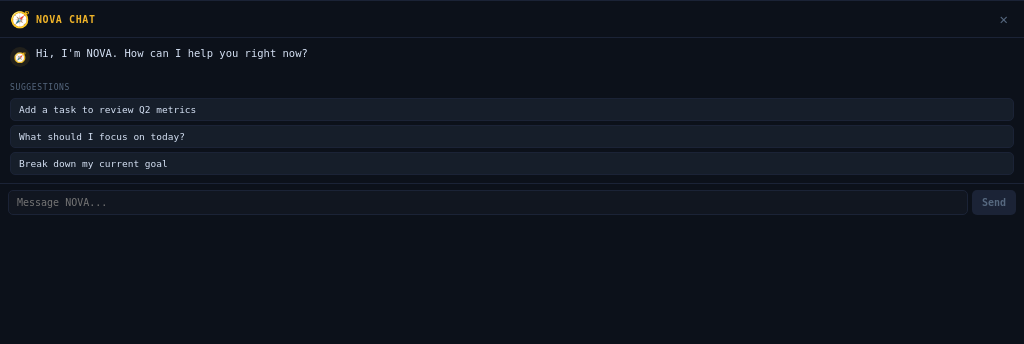
it: NovaCompassChat › handleUndo › shows error when undo fails
The width and height of the screenshot is (1024, 344).
In the field with placeholder "Message NOVA...": (488, 202) x1=8 y1=190 x2=968 y2=215, type "add a task"
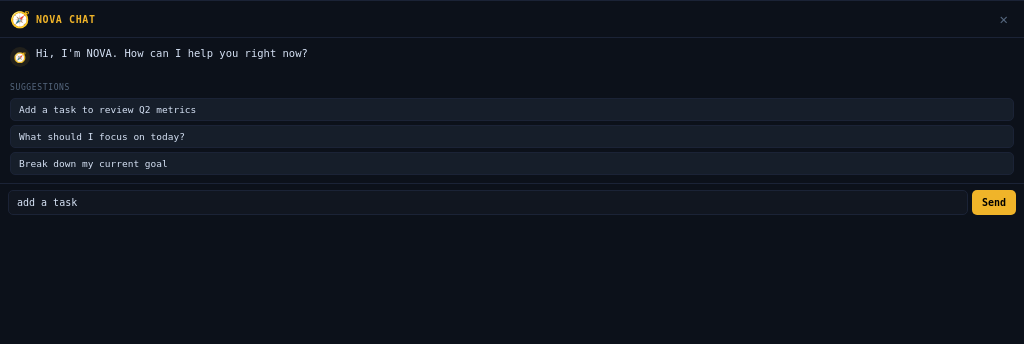
Click the button "Send": (994, 202) x1=972 y1=190 x2=1016 y2=215
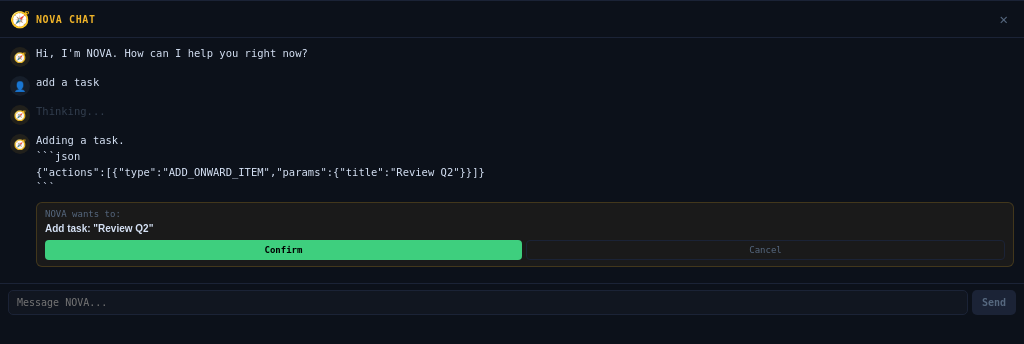
Check: the button "Confirm" is shown
Click the button "Confirm": (284, 250) x1=45 y1=240 x2=522 y2=260
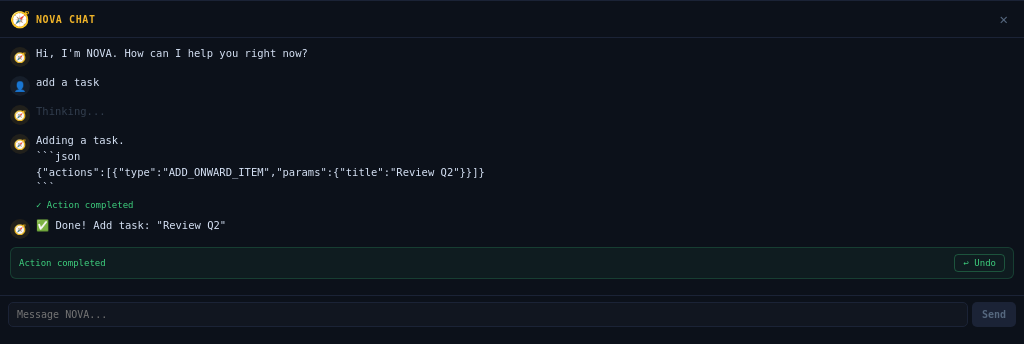
Check: the button "↩ Undo" is shown
Click the button "↩ Undo": (980, 263) x1=954 y1=254 x2=1005 y2=272
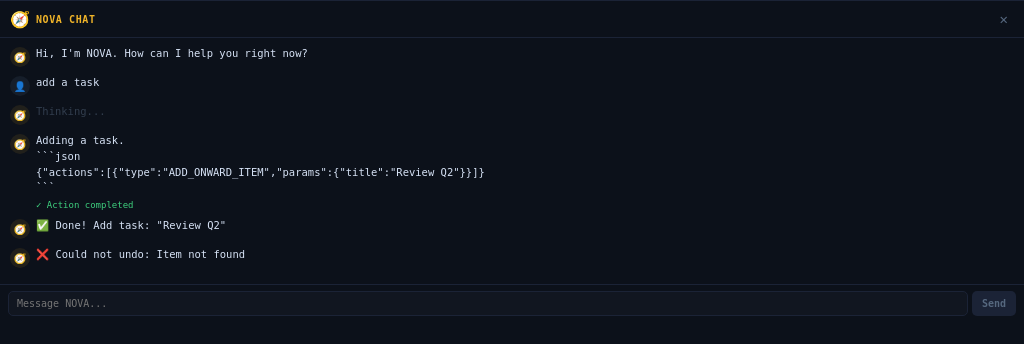
Check: the text "❌ Could not undo: Item not found" is shown, box x1=36 y1=248 x2=245 y2=260
